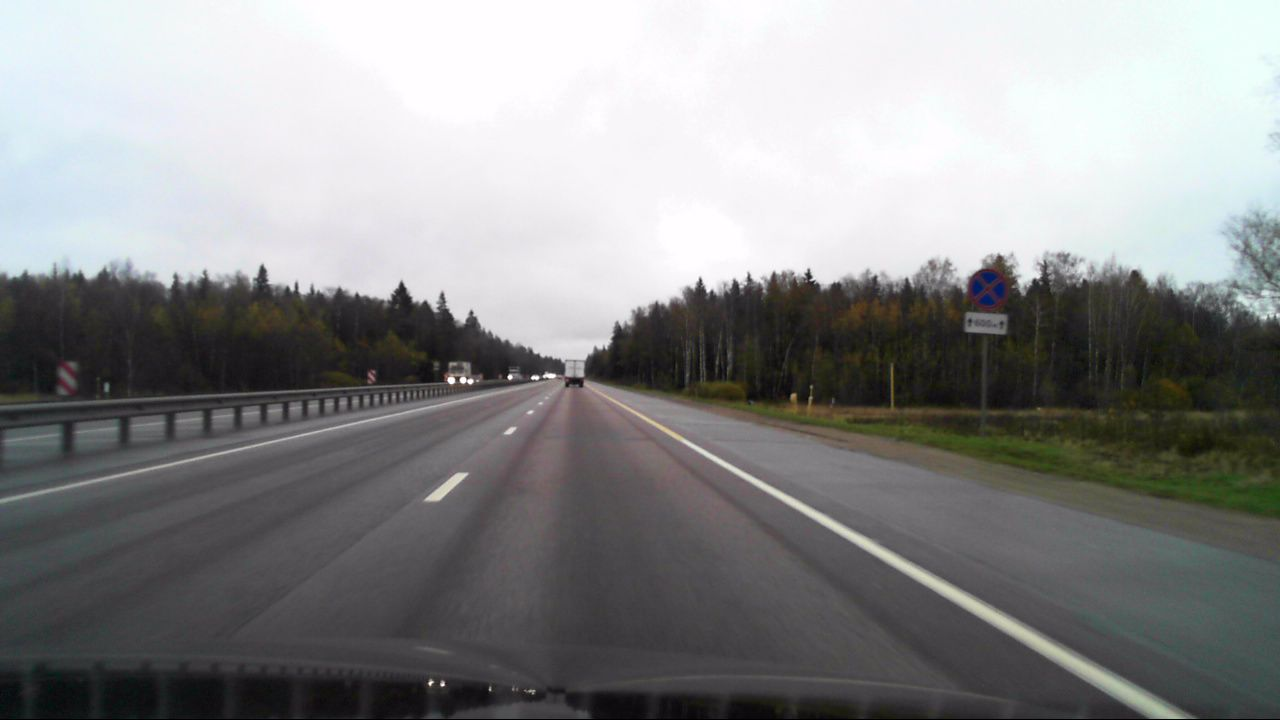No Parking: (966, 269, 1009, 309)
